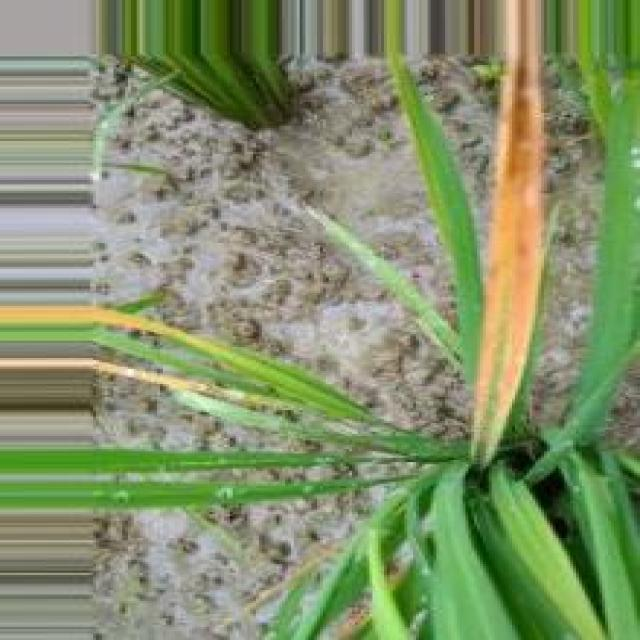Rice Tungro: (471, 0, 545, 464), (0, 305, 91, 325)
